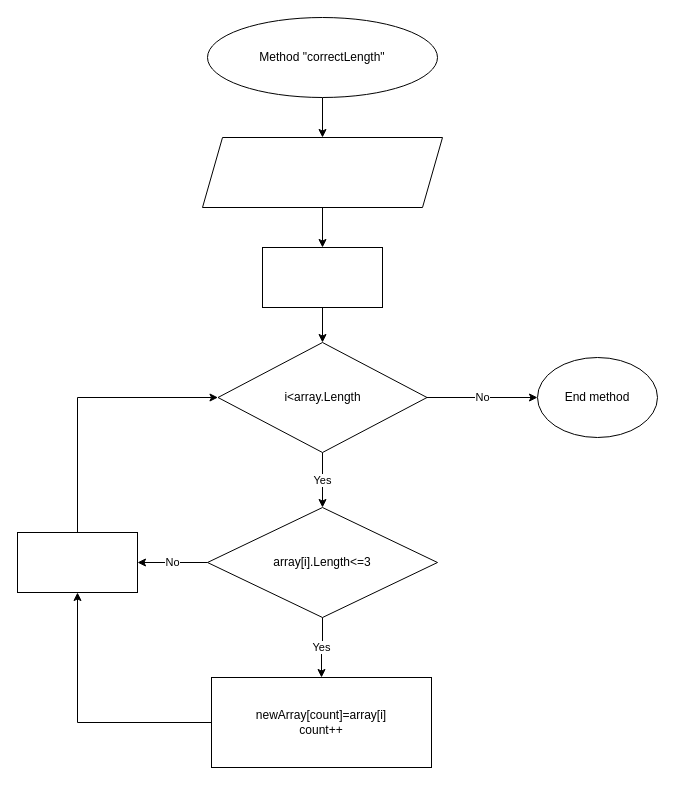
Image size: 675x785. Some labels were removed from this diagram. Here are the shapes that lost their labels. From the top down, the centre of each, then its label:
the point at 322,172: string[] array count=0
the point at 322,277: i=0
the point at 77,562: i++
